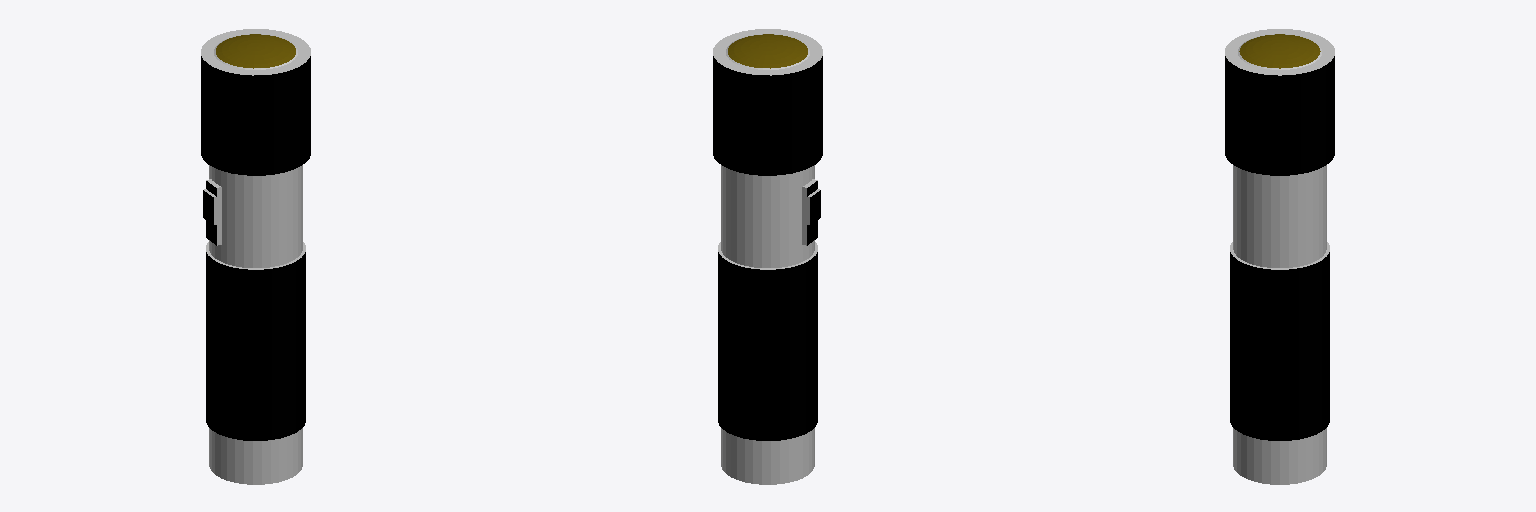
File: flashlight.obj
The picture shows the model from 3 angles: view 1: azimuth 30°, elevation 25°; view 2: azimuth 150°, elevation 25°; view 3: azimuth 270°, elevation 25°; orthographic projection.
Parts seen in each view (by area): view 1: Cylinder.001; view 2: Cylinder.001; view 3: Cylinder.001.
Part boxes in pixels (x1,y1,x2,y2): Cylinder.001: (201,29,310,484); Cylinder.001: (713,29,822,484); Cylinder.001: (1225,29,1334,484).
Bounding box in the file's own units: 2.36 × 9.85 × 2.36.